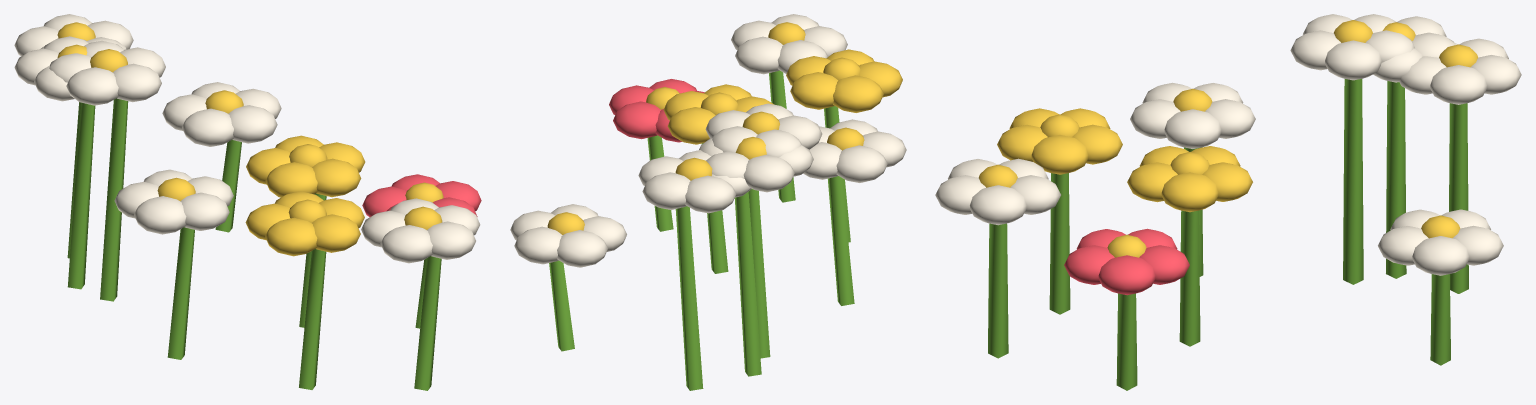
Rendered from flower_patch.obj.
3 views of the same model, side by side, from view 1: azimuth 30°, elevation 25°; view 2: azimuth 150°, elevation 25°; view 3: azimuth 270°, elevation 25° (orthographic). The views are drawn at different scales.
Visible parts, largest first — view 1: flower_patch_flower_white, flower_patch_leaf_mid, flower_patch_flower_yellow, flower_patch_flower_red; view 2: flower_patch_flower_white, flower_patch_leaf_mid, flower_patch_flower_yellow, flower_patch_flower_red; view 3: flower_patch_flower_white, flower_patch_leaf_mid, flower_patch_flower_yellow, flower_patch_flower_red.
Part boxes in pixels (bbox=[...]): flower_patch_flower_white: bbox=[14, 14, 480, 263]; flower_patch_leaf_mid: bbox=[67, 98, 441, 390]; flower_patch_flower_yellow: bbox=[57, 22, 443, 256]; flower_patch_flower_red: bbox=[362, 174, 481, 217]; flower_patch_flower_white: bbox=[510, 14, 906, 267]; flower_patch_leaf_mid: bbox=[549, 70, 854, 390]; flower_patch_flower_yellow: bbox=[547, 22, 902, 234]; flower_patch_flower_red: bbox=[609, 79, 704, 142]; flower_patch_flower_white: bbox=[935, 14, 1521, 275]; flower_patch_leaf_mid: bbox=[988, 79, 1468, 390]; flower_patch_flower_yellow: bbox=[978, 20, 1478, 257]; flower_patch_flower_red: bbox=[1064, 228, 1189, 295].
Size of the model in its own units: 0.4481 by 0.3309 by 0.6796.
